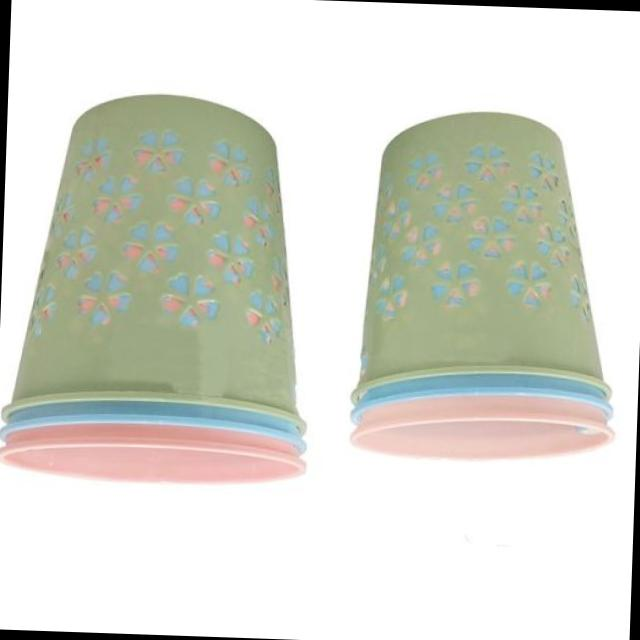dustbin: (0, 89, 324, 438), (348, 100, 626, 418)
